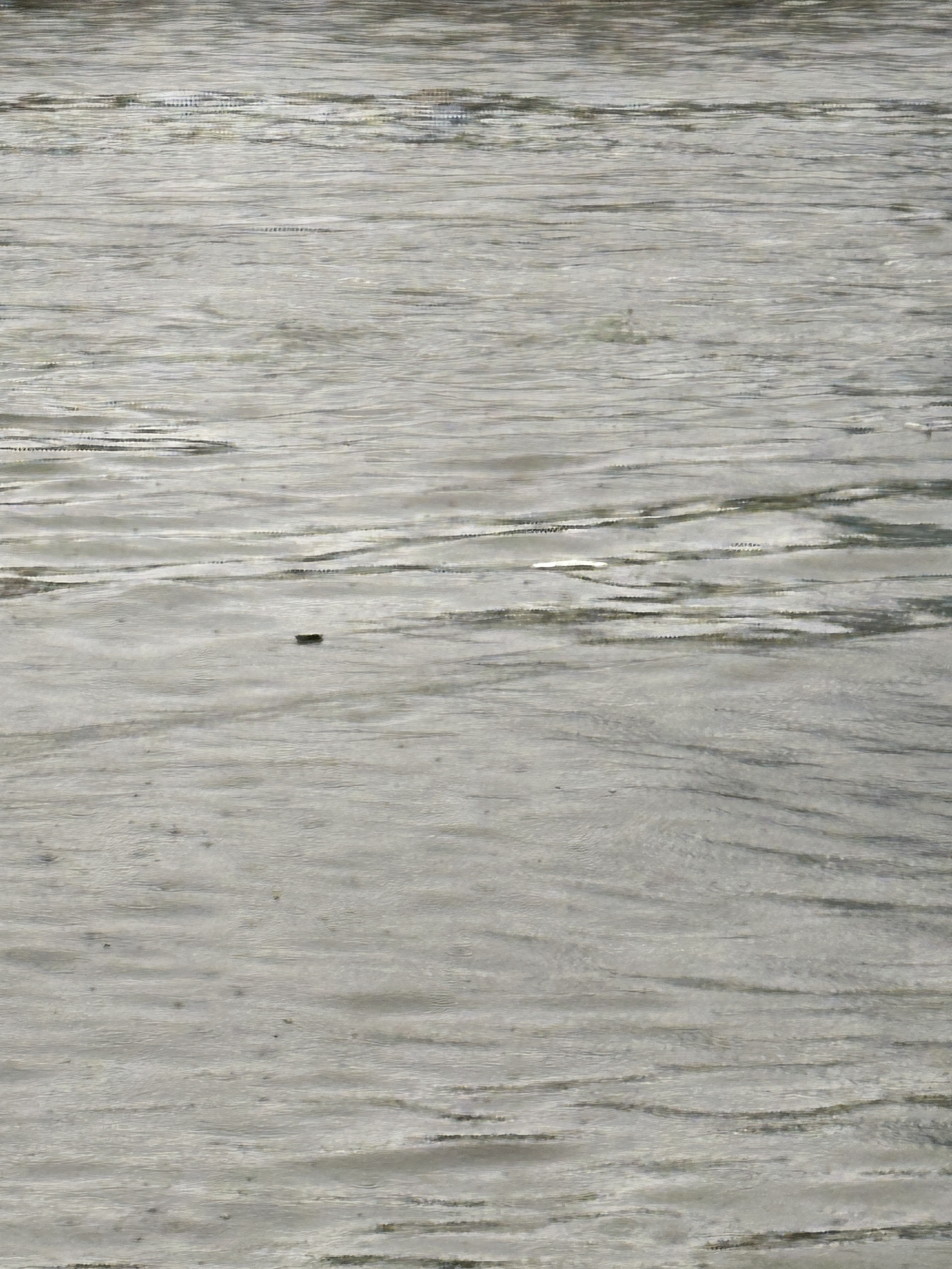Plastic wastes: (418, 459, 431, 563), (472, 830, 487, 880)
